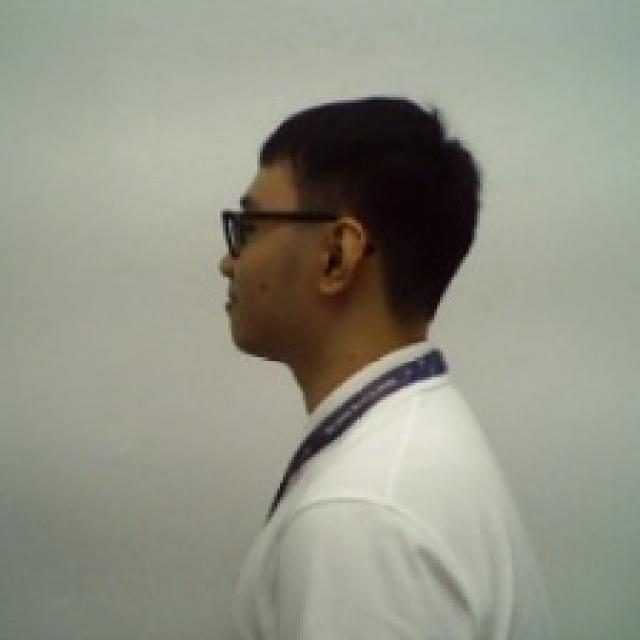no_gloves: (252, 90, 491, 308)
no_hairnet: (206, 216, 364, 372)
